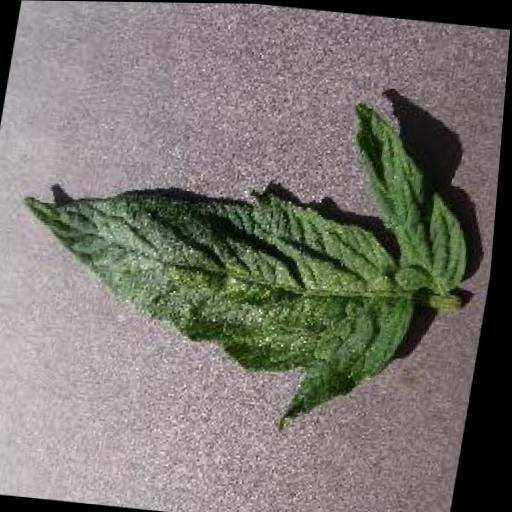Spider Mites: (0, 70, 498, 438)
